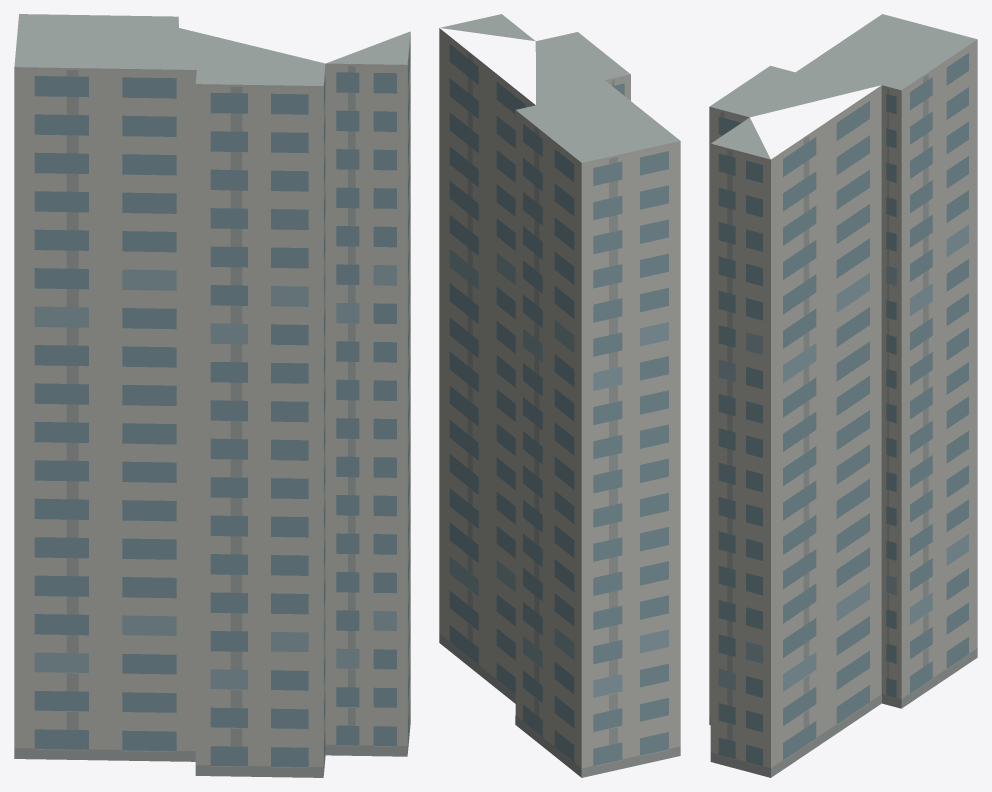
File: residential-410f0030-384f-48b2-b234-86474520f194.glb
The picture shows the model from 3 angles, left to right: view 1: azimuth 30°, elevation 25°; view 2: azimuth 150°, elevation 25°; view 3: azimuth 270°, elevation 25°; orthographic projection. The views are drawn at different scales.
Visible parts, largest first — view 1: residential-410f0030-384f-48b2-b234-86474520f194.tmp; view 2: residential-410f0030-384f-48b2-b234-86474520f194.tmp; view 3: residential-410f0030-384f-48b2-b234-86474520f194.tmp.
Part boxes in pixels (box(x1,y1,x2,y2)): residential-410f0030-384f-48b2-b234-86474520f194.tmp: box(14, 14, 410, 777); residential-410f0030-384f-48b2-b234-86474520f194.tmp: box(439, 14, 680, 777); residential-410f0030-384f-48b2-b234-86474520f194.tmp: box(709, 14, 977, 777).
Bounding box in the file's own units: 38.38 × 76 × 29.88.
